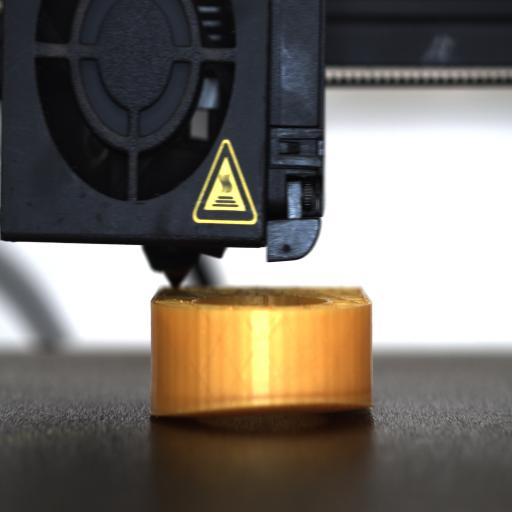warp: (154, 373, 371, 432)
